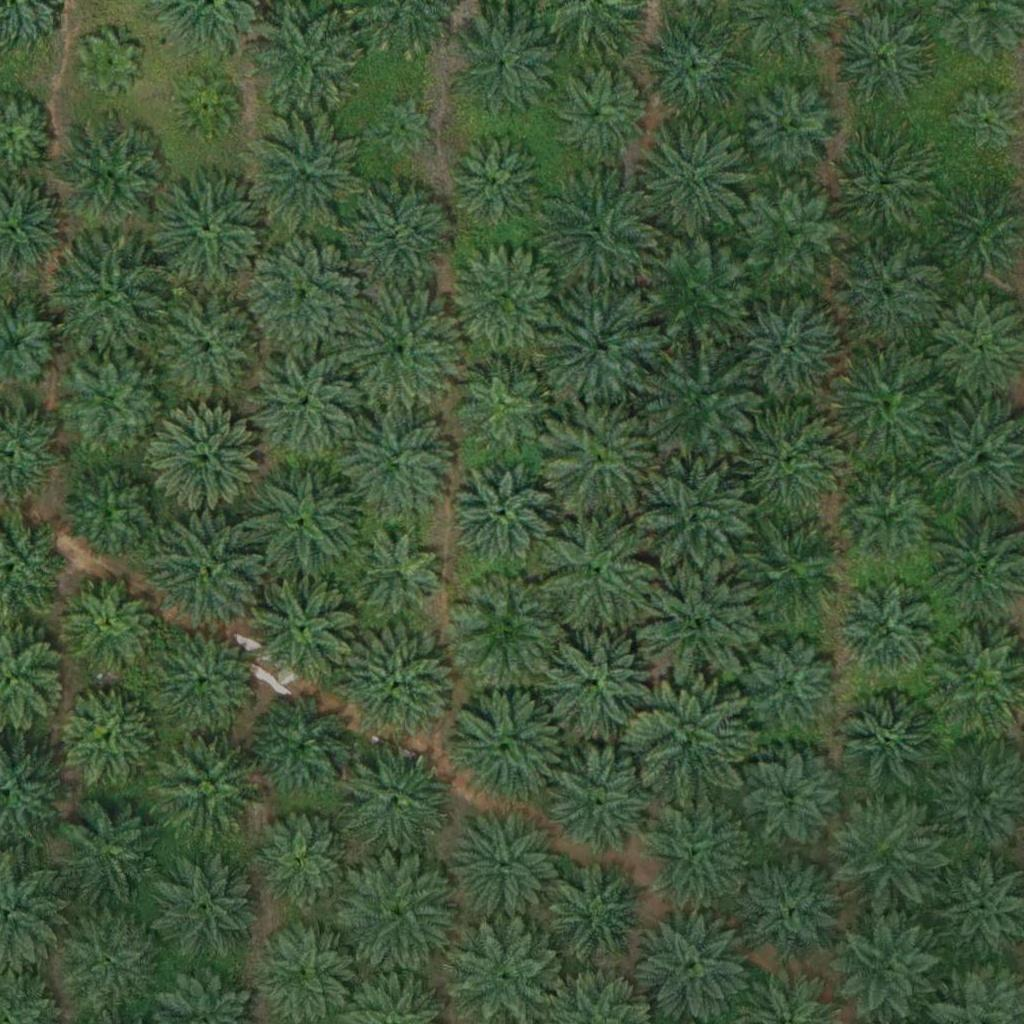Kelapa_Sawit: (636, 232, 749, 346), (542, 168, 655, 282), (448, 12, 561, 126), (643, 342, 756, 456), (55, 794, 168, 908), (542, 290, 655, 403), (245, 114, 358, 227), (249, 237, 362, 350), (151, 174, 264, 287), (151, 404, 264, 517), (244, 349, 357, 462), (247, 463, 360, 576), (248, 568, 361, 681), (342, 628, 455, 741), (452, 687, 565, 800), (543, 403, 656, 516), (638, 462, 751, 575), (640, 568, 753, 681), (634, 683, 747, 796), (832, 341, 945, 454), (448, 809, 561, 922), (339, 744, 452, 857), (344, 858, 457, 971), (52, 907, 165, 1020), (731, 293, 843, 407), (149, 729, 261, 843), (739, 401, 851, 515), (148, 853, 260, 967), (830, 238, 942, 351), (636, 6, 748, 119), (638, 118, 750, 231), (449, 245, 561, 358), (343, 179, 455, 292), (345, 292, 457, 405), (254, 3, 366, 116), (151, 293, 263, 406), (55, 120, 167, 233), (54, 242, 166, 355), (149, 517, 261, 630), (147, 627, 259, 740), (339, 410, 451, 523), (451, 573, 563, 686), (545, 515, 657, 628), (543, 621, 655, 734), (736, 516, 848, 629), (828, 796, 940, 909), (640, 800, 752, 913), (547, 745, 659, 858), (833, 3, 933, 104), (830, 136, 930, 237), (743, 80, 843, 181), (743, 183, 843, 284), (65, 350, 165, 451), (66, 460, 166, 561), (250, 695, 350, 796), (350, 528, 450, 629), (454, 350, 554, 451), (450, 461, 550, 562), (740, 633, 840, 734), (742, 752, 842, 853), (842, 694, 942, 795), (742, 856, 842, 957), (552, 862, 652, 963), (547, 62, 647, 162), (445, 131, 545, 231), (64, 575, 164, 675), (60, 687, 160, 787), (837, 581, 937, 681), (251, 814, 351, 914), (843, 478, 931, 566), (946, 86, 1021, 161), (175, 75, 238, 138), (78, 32, 141, 95), (372, 95, 434, 158)
